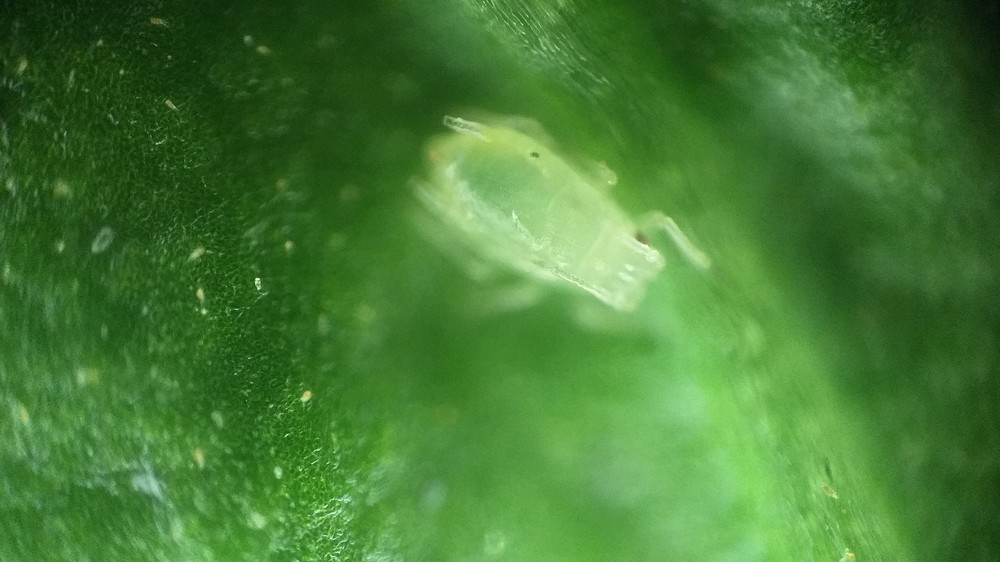Pulgon: (364, 91, 724, 379)
